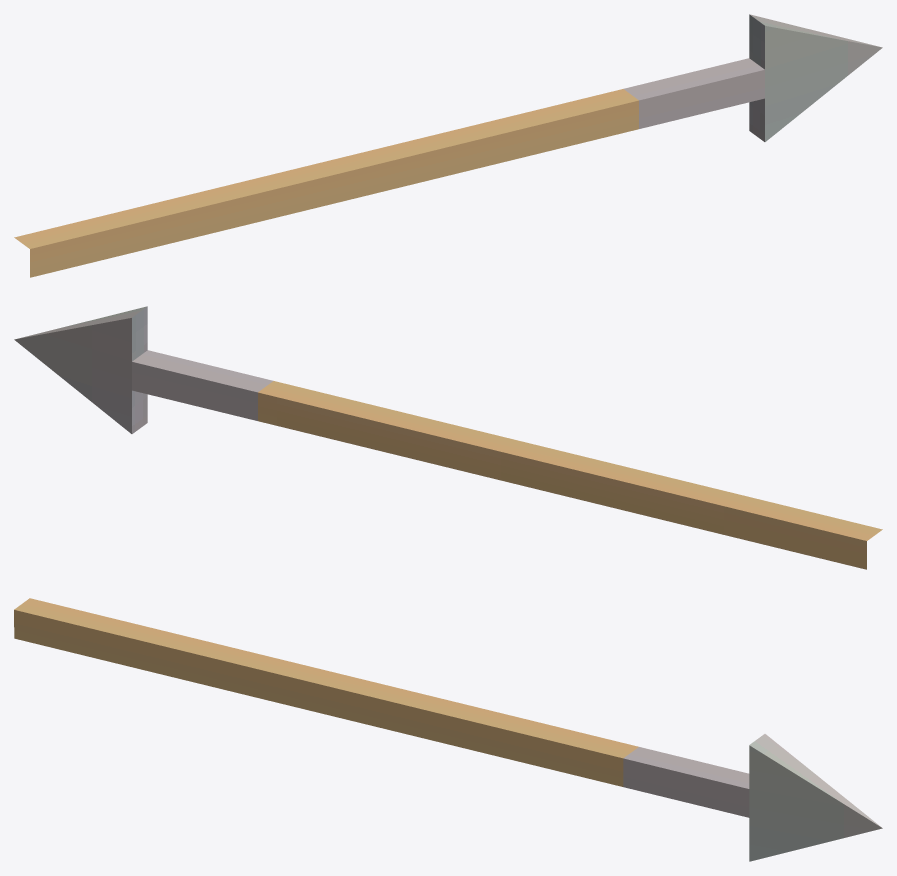
Rendered from arrowOut.glb.
3 renders of one model, top to bottom at view 1: azimuth 30°, elevation 25°; view 2: azimuth 150°, elevation 25°; view 3: azimuth 330°, elevation 25°, orthographic.
Visible parts, largest first — view 1: ARROW_Cube.001; view 2: ARROW_Cube.001; view 3: ARROW_Cube.001.
Boxes of the visible parts, x1,y1,x2,y2 form: ARROW_Cube.001: (14,14,882,277); ARROW_Cube.001: (14,306,882,569); ARROW_Cube.001: (14,598,882,861).
Size of the model in its own units: 1.08 by 0.1402 by 0.0345.
1 material, 1 textured.
